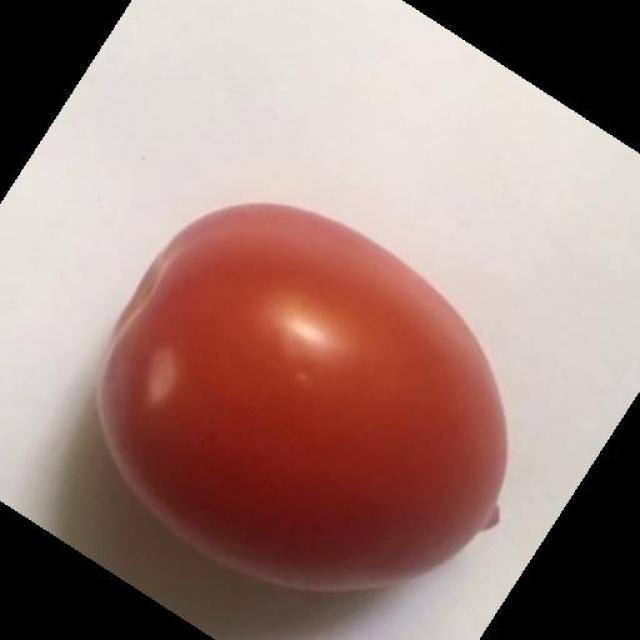Fresh Tomato: (88, 198, 540, 594)
